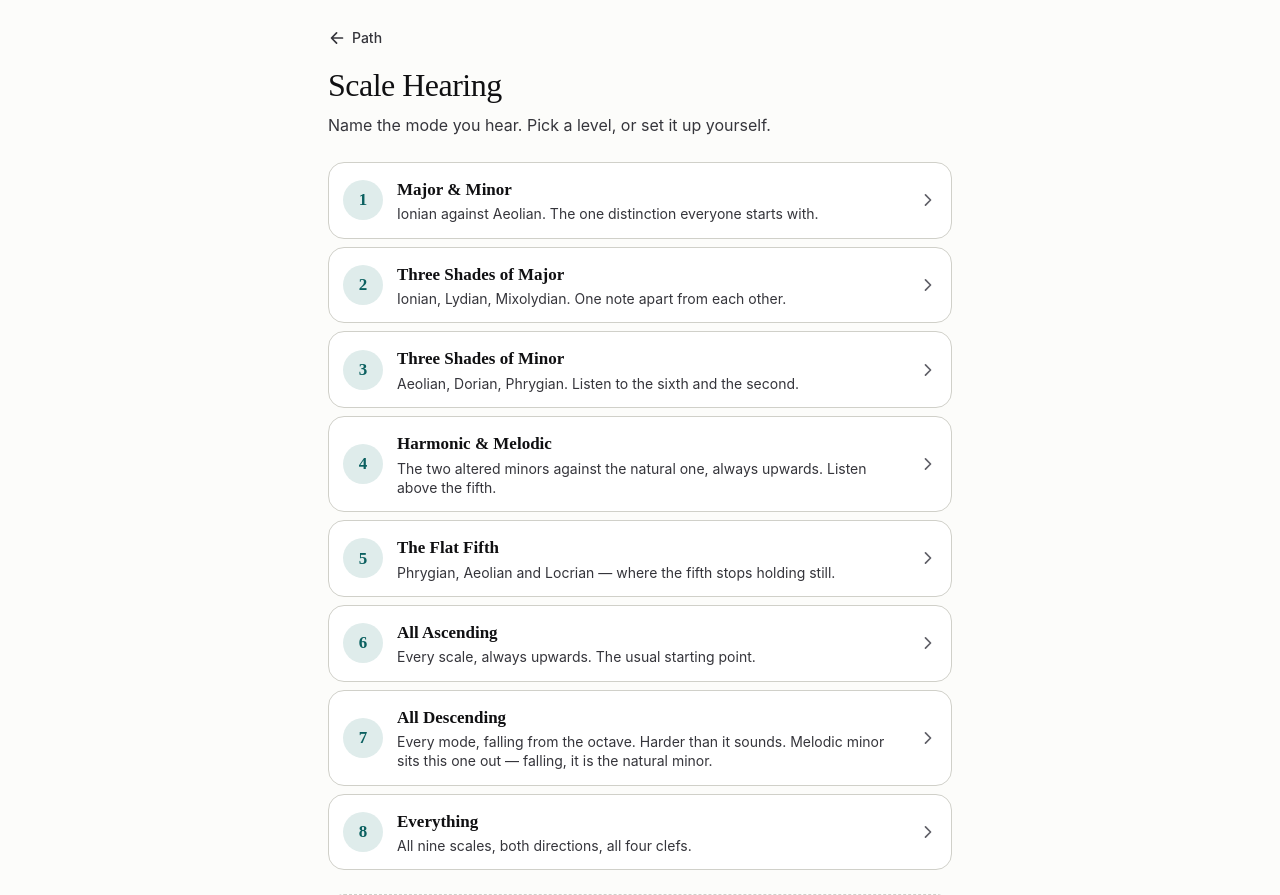
Test: Scale Hearing › starts a round from a level, in the same tap
Click the text "Major & Minor". click: (454, 189)
box: [397, 180, 512, 199]
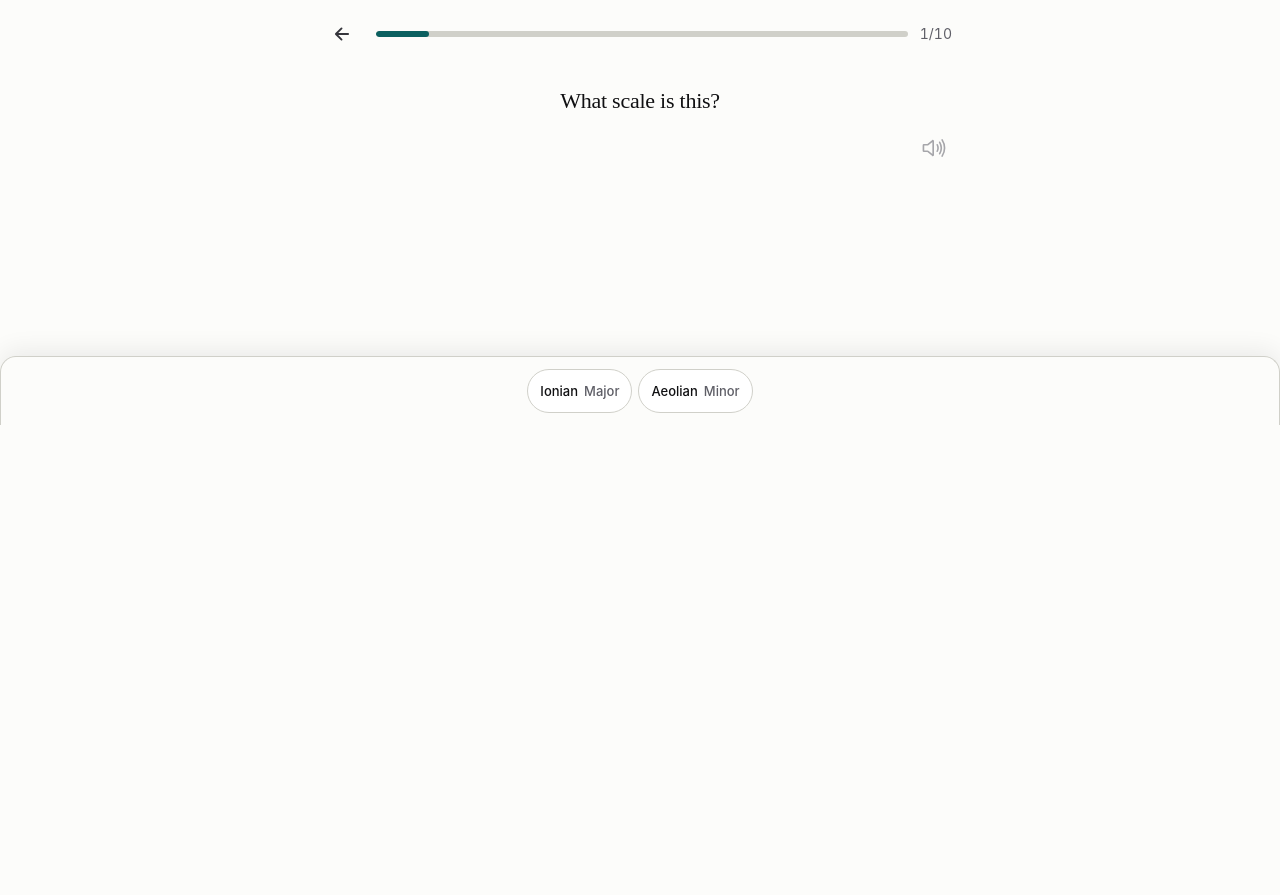
Now the heading "What scale is this?" is shown, box [560, 88, 720, 114]
Now the text "1/10" is shown, box [920, 24, 952, 44]
Now the element named "Scale answers" is shown, box [527, 369, 753, 413]
